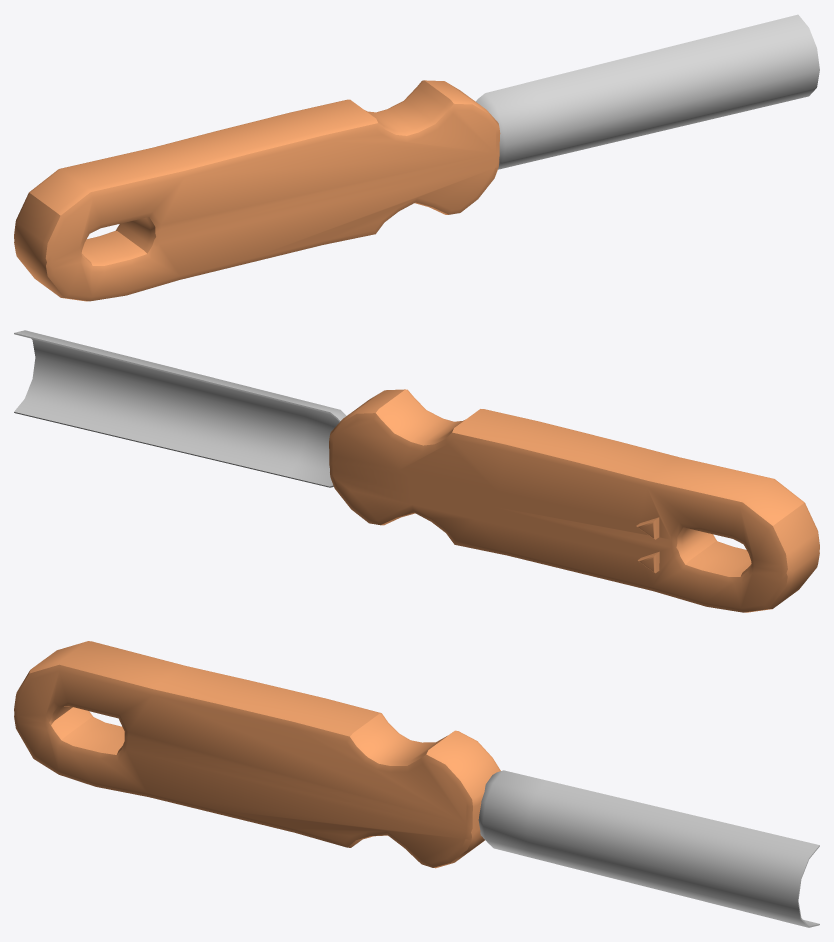
File: item-pumpkin-scraper.glb
3 views of the same model, one above another, from view 1: azimuth 30°, elevation 25°; view 2: azimuth 150°, elevation 25°; view 3: azimuth 330°, elevation 25° (orthographic).
Bounding box in the file's own units: 5.34 × 0.7629 × 0.4597.
